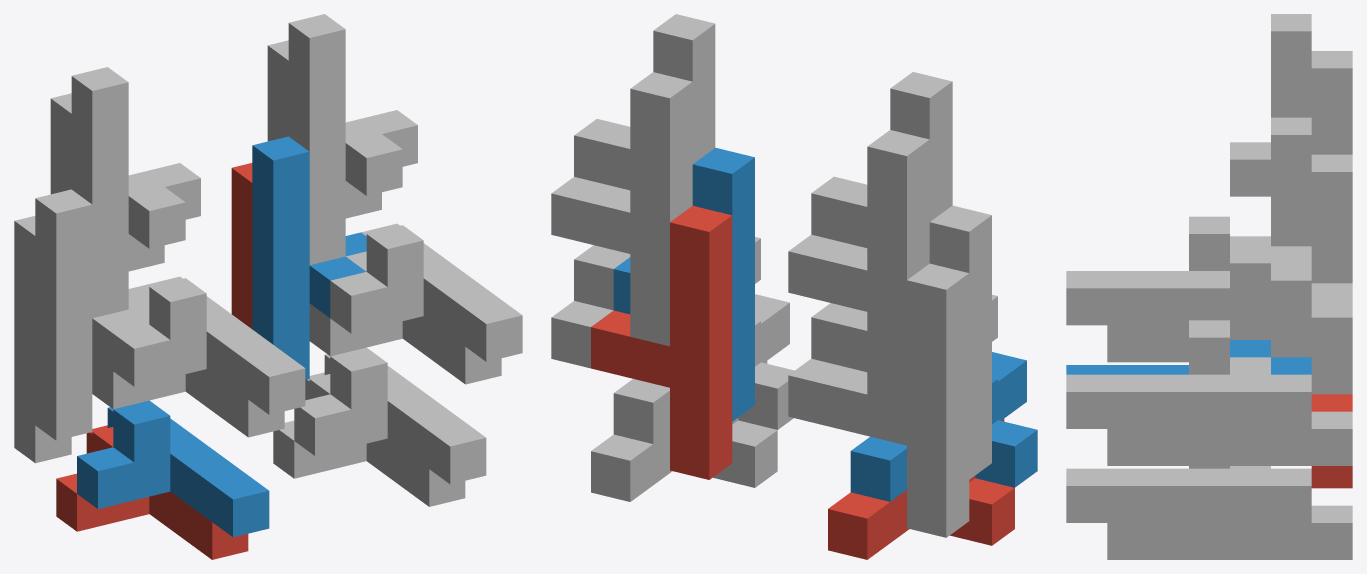
Rendered from tiling.obj.
The picture shows the model from 3 angles, left to right: view 1: azimuth 30°, elevation 25°; view 2: azimuth 150°, elevation 25°; view 3: azimuth 270°, elevation 25°; orthographic projection. The views are drawn at different scales.
Parts seen in each view (by area): view 1: copy_2_domain_8, copy_2_domain_4, copy_2_domain_2, copy_2_domain_6, copy_1_domain_8, copy_1_domain_2, copy_1_domain_4, copy_1_domain_6, copy_1_domain_1, copy_1_domain_5, copy_2_domain_1, copy_1_domain_3 (+4 smaller); view 2: copy_2_domain_1, copy_2_domain_5, copy_2_domain_7, copy_2_domain_3, copy_2_domain_2, copy_2_domain_6, copy_2_domain_8, copy_2_domain_4, copy_1_domain_2, copy_1_domain_6, copy_1_domain_1, copy_1_domain_5 (+4 smaller); view 3: copy_1_domain_8, copy_1_domain_6, copy_1_domain_4, copy_2_domain_8, copy_2_domain_7, copy_1_domain_7, copy_1_domain_5, copy_2_domain_4, copy_2_domain_3, copy_1_domain_3, copy_2_domain_5, copy_2_domain_6 (+2 smaller).
Part boxes in pixels (x1,y1,x2,y2): copy_2_domain_8: (288, 14, 417, 264); copy_2_domain_4: (71, 67, 200, 318); copy_2_domain_2: (35, 189, 149, 440); copy_2_domain_6: (252, 136, 366, 379); copy_1_domain_8: (330, 223, 522, 361); copy_1_domain_2: (77, 400, 269, 537); copy_1_domain_4: (113, 276, 305, 414); copy_1_domain_6: (294, 347, 486, 484); copy_1_domain_1: (56, 425, 248, 559); copy_1_domain_5: (273, 372, 465, 506); copy_2_domain_1: (14, 216, 71, 463); copy_1_domain_3: (92, 304, 284, 437); copy_2_domain_1: (828, 263, 969, 537); copy_2_domain_5: (591, 206, 732, 479); copy_2_domain_7: (551, 72, 692, 346); copy_2_domain_3: (788, 130, 929, 404); copy_2_domain_2: (850, 205, 991, 479); copy_2_domain_6: (613, 147, 754, 421); copy_2_domain_8: (574, 14, 715, 190); copy_2_domain_4: (811, 72, 952, 247); copy_1_domain_2: (850, 352, 1037, 501); copy_1_domain_6: (613, 294, 794, 443); copy_1_domain_1: (828, 419, 1014, 559); copy_1_domain_5: (591, 361, 777, 501); copy_1_domain_8: (1066, 320, 1311, 428); copy_1_domain_6: (1066, 466, 1311, 522); copy_1_domain_4: (1066, 216, 1270, 325); copy_2_domain_8: (1230, 117, 1311, 357); copy_2_domain_7: (1271, 154, 1352, 394); copy_1_domain_7: (1107, 357, 1352, 465); copy_1_domain_5: (1107, 466, 1352, 559); copy_2_domain_4: (1230, 14, 1311, 196); copy_2_domain_3: (1311, 51, 1352, 154); copy_1_domain_3: (1107, 325, 1270, 362); copy_2_domain_5: (1311, 394, 1352, 488); copy_2_domain_6: (1230, 340, 1311, 374).
Size of the model in its own units: 10 by 11 by 7.
